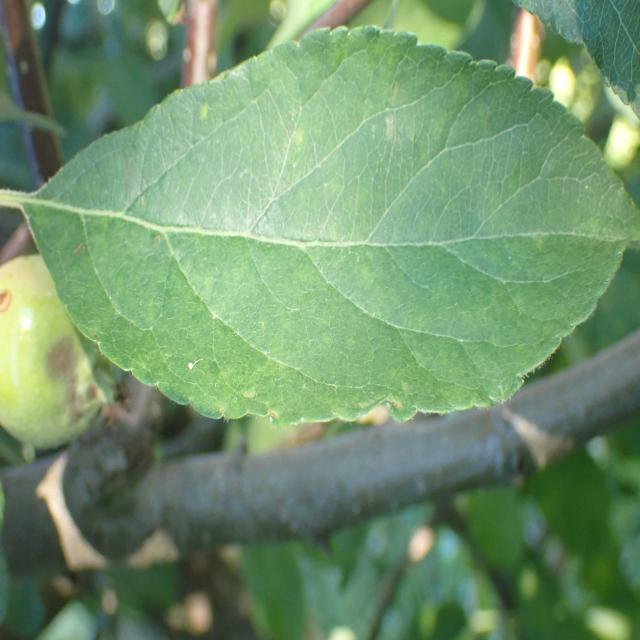scab: (51, 79, 624, 400)
